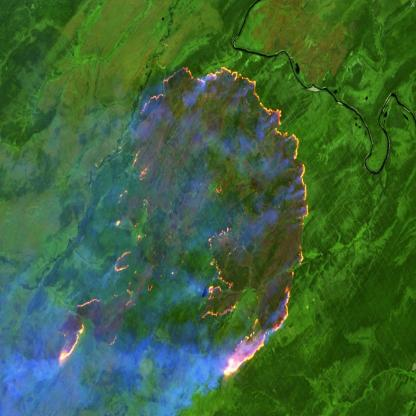fire: (52, 58, 312, 392)
